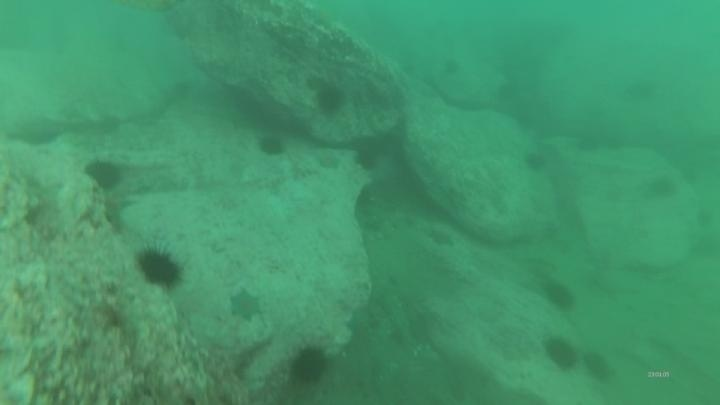echinus: (135, 244, 185, 291), (287, 343, 331, 387), (83, 157, 125, 193), (542, 335, 580, 373), (541, 279, 578, 313), (620, 75, 660, 105), (313, 82, 347, 117), (581, 349, 615, 384), (644, 173, 680, 202), (255, 132, 288, 159), (352, 145, 382, 173), (521, 149, 549, 175), (571, 134, 599, 160), (499, 94, 527, 120), (440, 56, 463, 78)
starfish: (100, 188, 137, 232), (226, 286, 265, 324), (312, 147, 344, 173), (425, 225, 458, 250)
